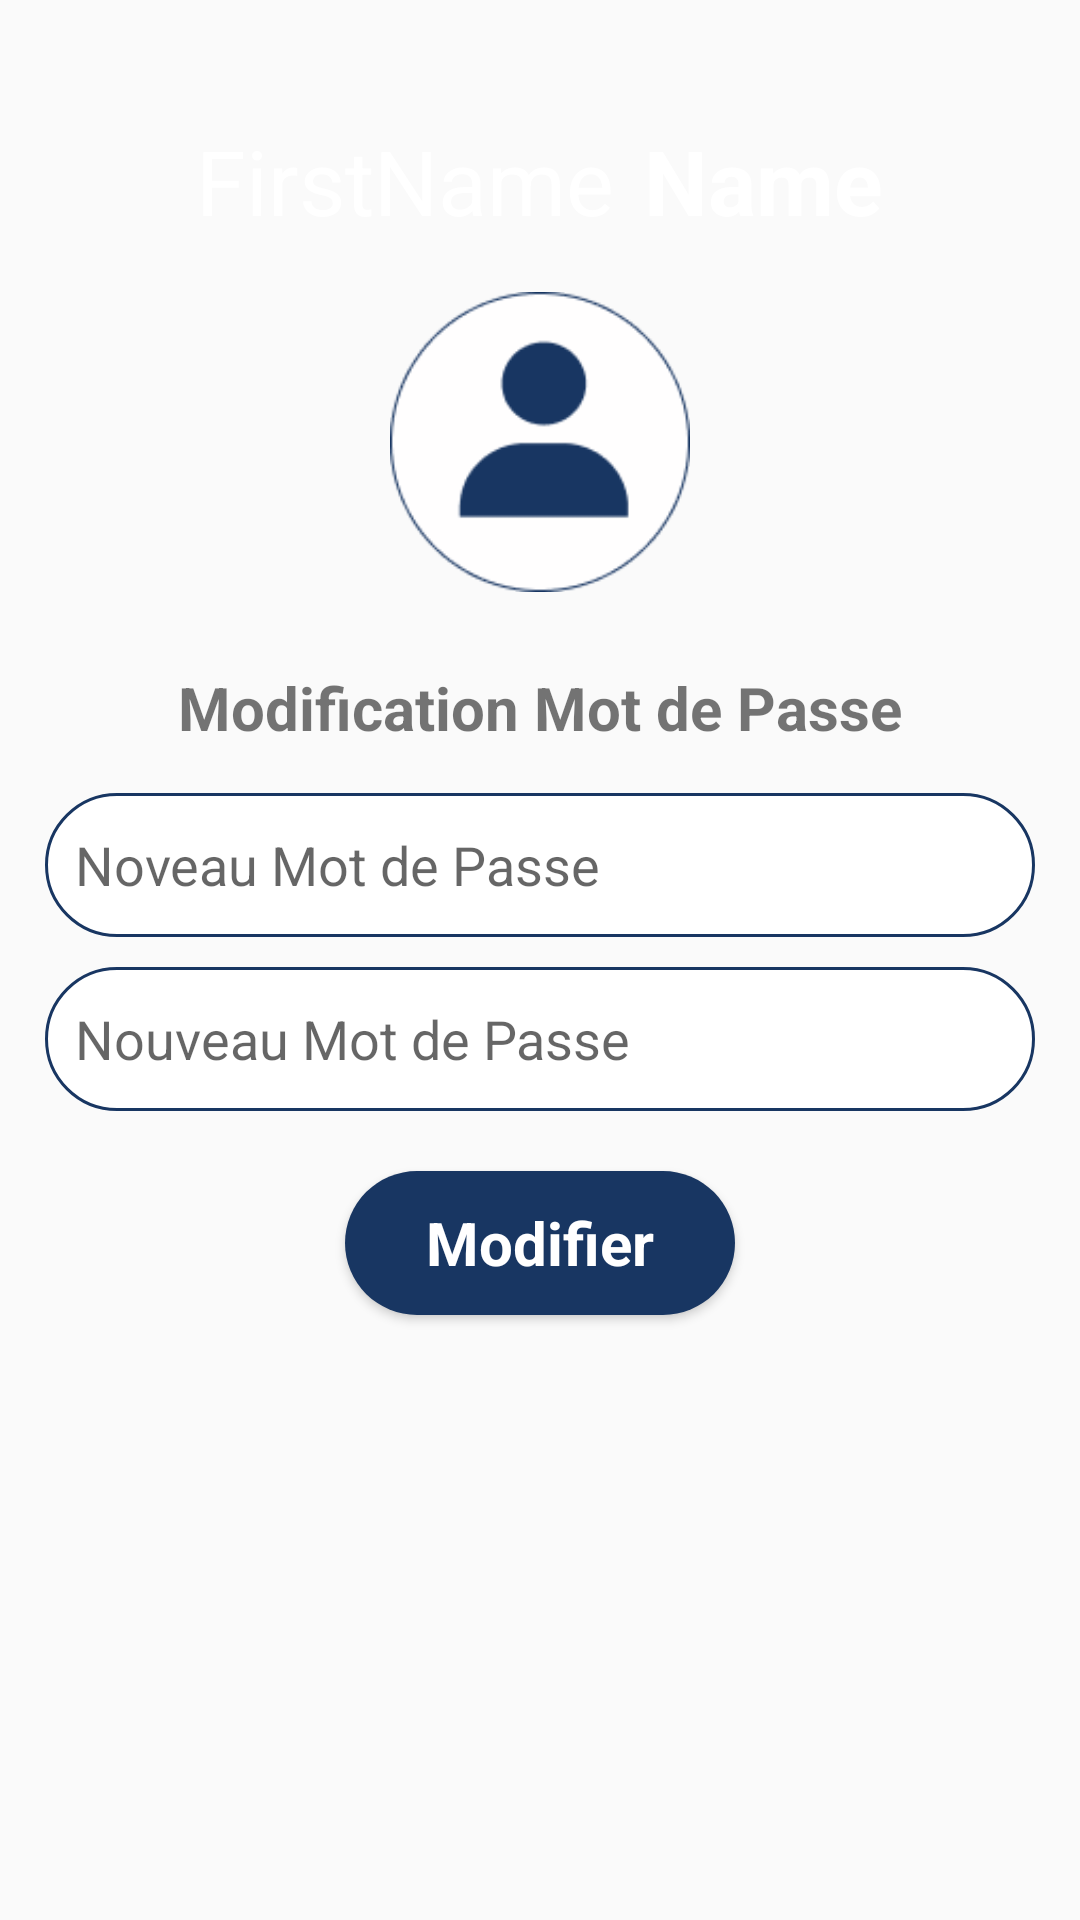

Icon bounding boxes for this 1080x1920 phone screenshot, format (x1, y1, x2, y2):
userprofil: (390, 292, 690, 592)
